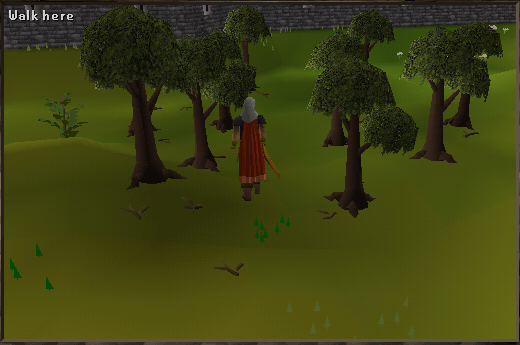Tree: (90, 3, 180, 185), (319, 66, 387, 217), (404, 35, 476, 162), (174, 35, 224, 178)
